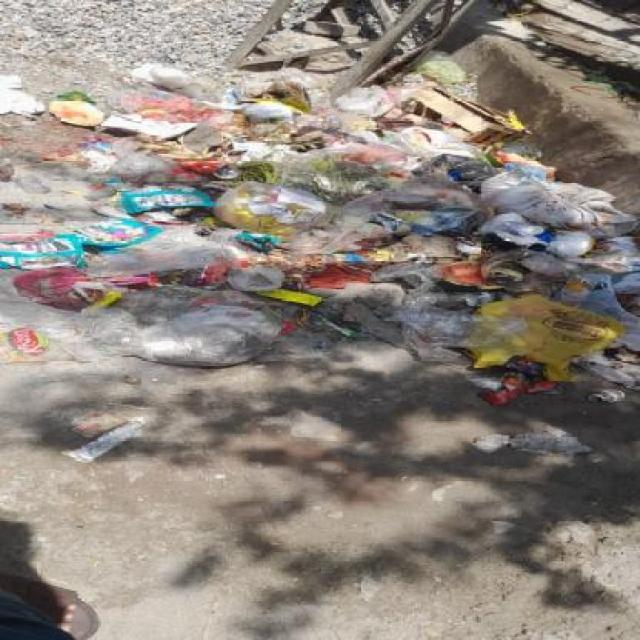garbage: (0, 39, 627, 475)
